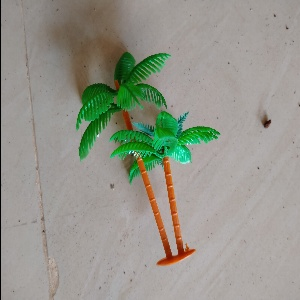plant: (72, 57, 209, 256)
